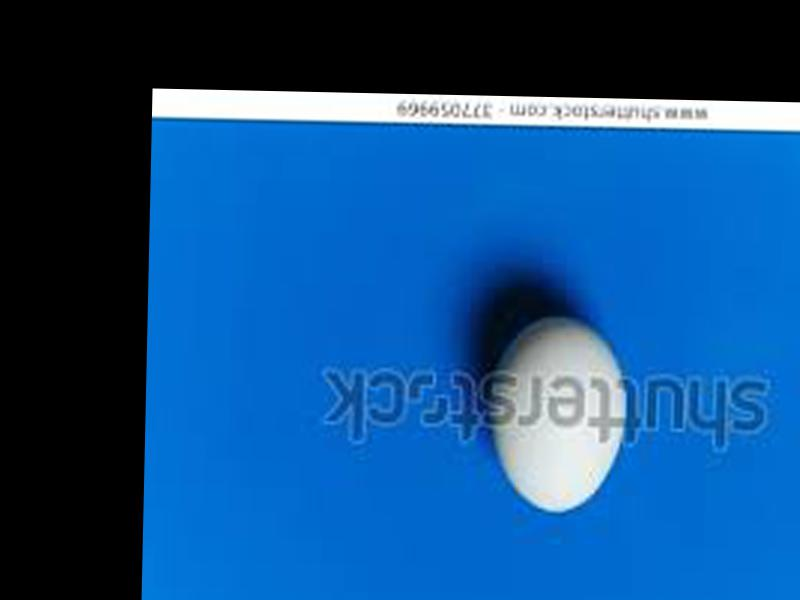Eggs: (489, 315, 624, 519)
